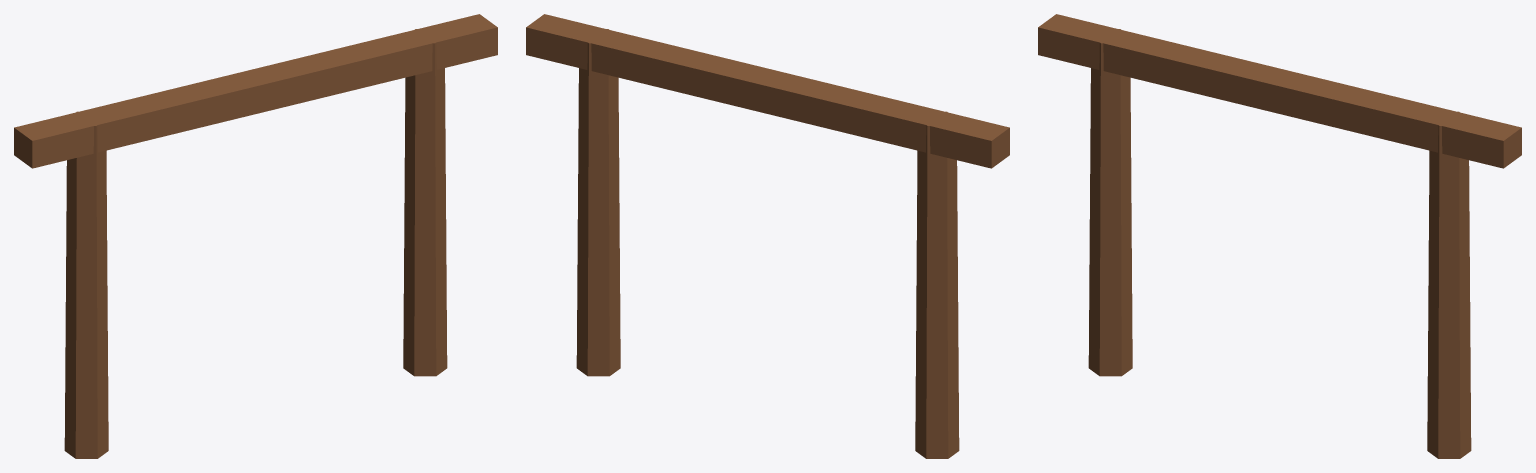
File: Bridge_Pile_Wood_3m.glb
The picture shows the model from 3 angles, left to right: view 1: azimuth 30°, elevation 25°; view 2: azimuth 150°, elevation 25°; view 3: azimuth 330°, elevation 25°; orthographic projection.
Visible parts, largest first — view 1: Bridge_Pile_Wood_3m_Wood; view 2: Bridge_Pile_Wood_3m_Wood; view 3: Bridge_Pile_Wood_3m_Wood.
Part boxes in pixels (x1,y1,x2,y2): Bridge_Pile_Wood_3m_Wood: (14,14,497,458); Bridge_Pile_Wood_3m_Wood: (526,14,1009,458); Bridge_Pile_Wood_3m_Wood: (1038,14,1521,458).
Size of the model in its own units: 4.4 by 3 by 0.36.
